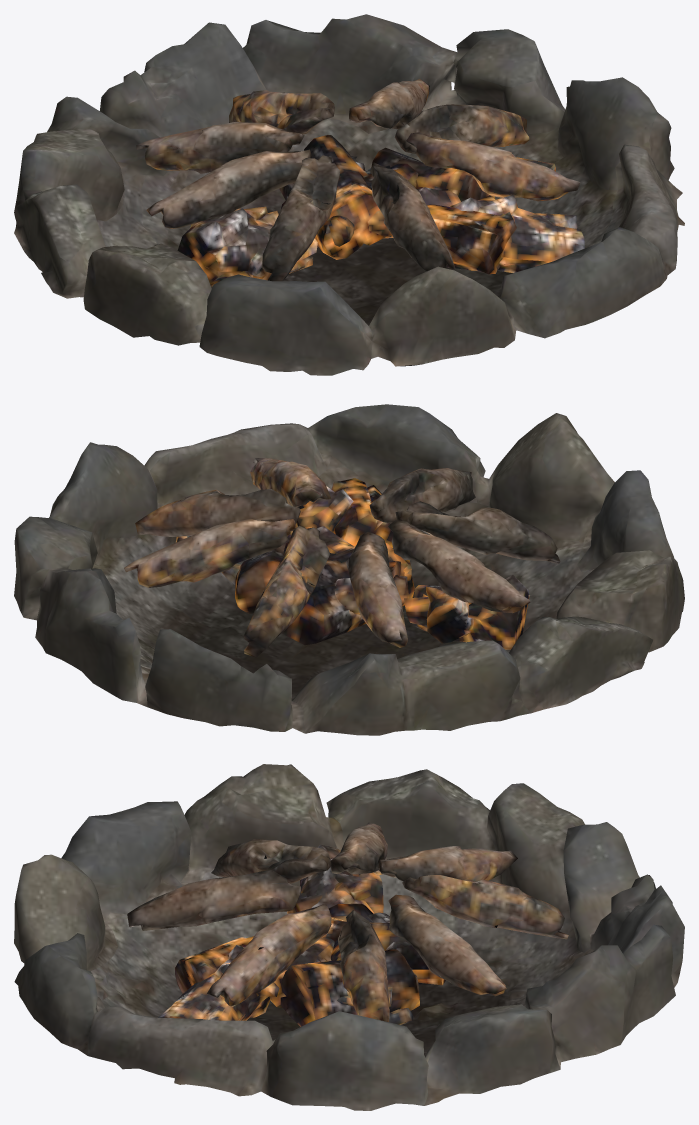
File: foguera_P3_corona.glb
3 renders of one model, top to bottom at view 1: azimuth 30°, elevation 25°; view 2: azimuth 150°, elevation 25°; view 3: azimuth 270°, elevation 25°, orthographic.
Parts seen in each view (by area): view 1: foguera_P3_corona; view 2: foguera_P3_corona; view 3: foguera_P3_corona.
Part boxes in pixels (x1,y1,x2,y2): foguera_P3_corona: [14, 14, 684, 375]; foguera_P3_corona: [14, 404, 684, 735]; foguera_P3_corona: [14, 764, 684, 1110].
Size of the model in its own units: 1.59 by 0.44 by 1.58.
Materials: 1 (1 with a texture image).
